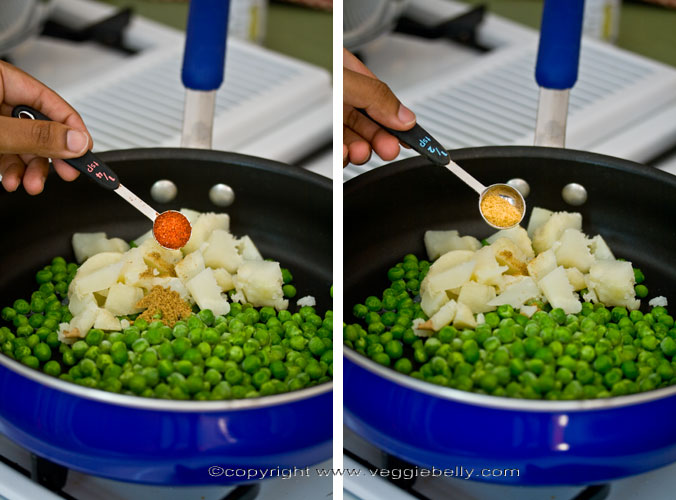boiled peas: (376, 294, 667, 403), (23, 305, 323, 398)
